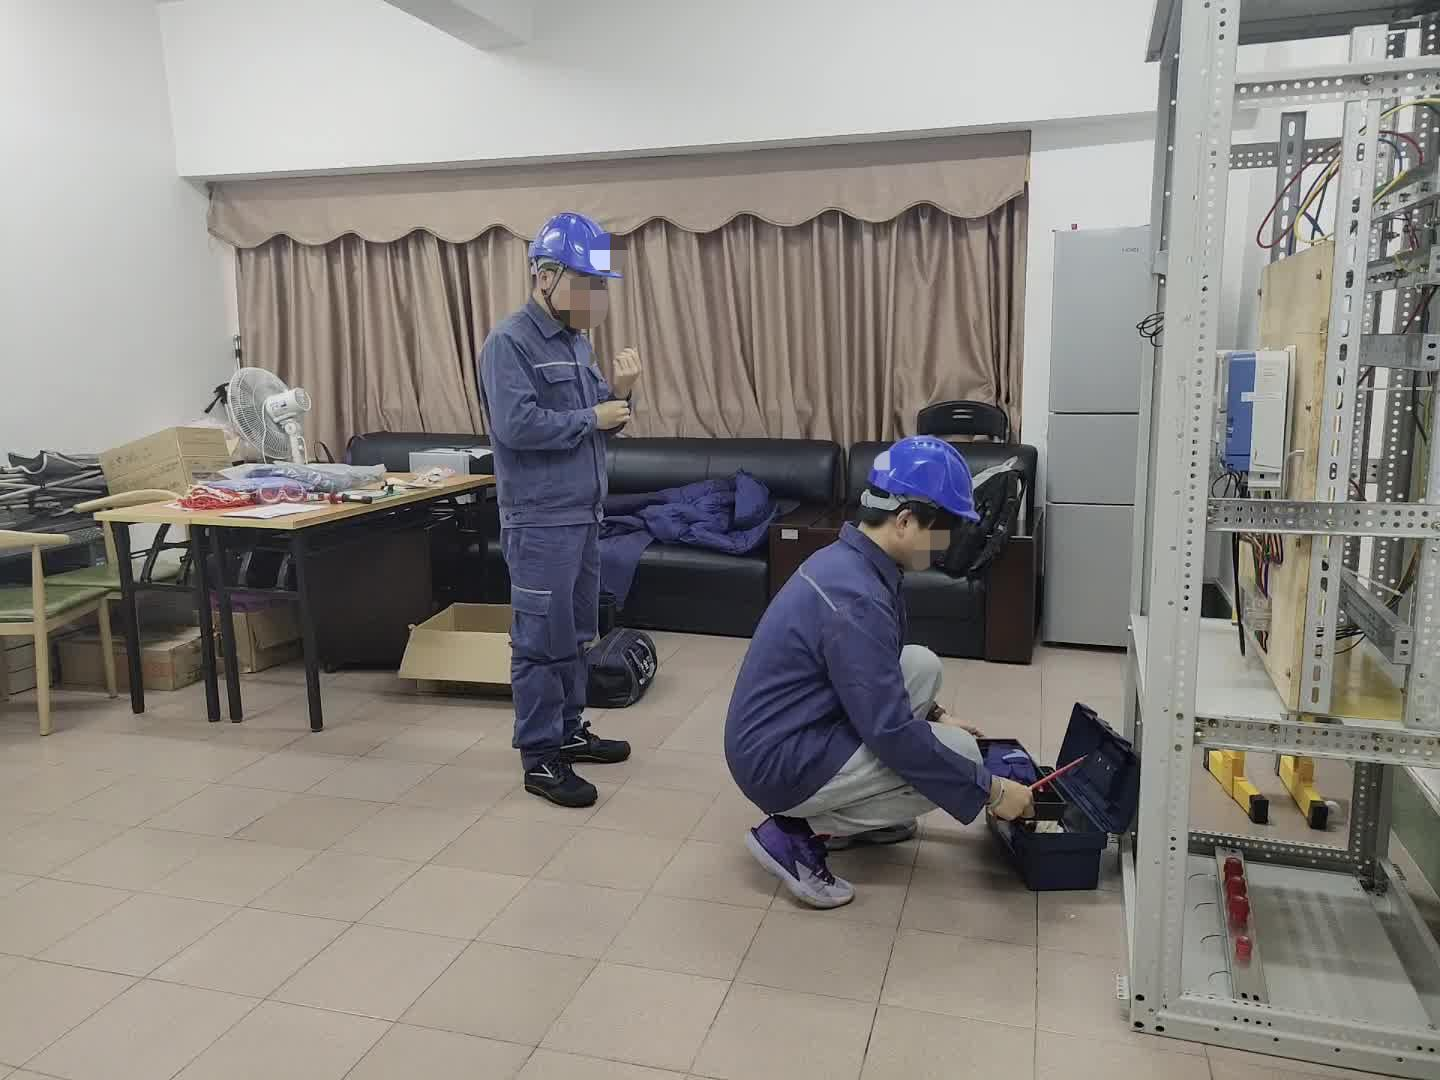halt: (861, 434, 983, 576), (528, 214, 624, 321)
inear: (533, 262, 569, 309)
noear: (890, 511, 925, 562)
